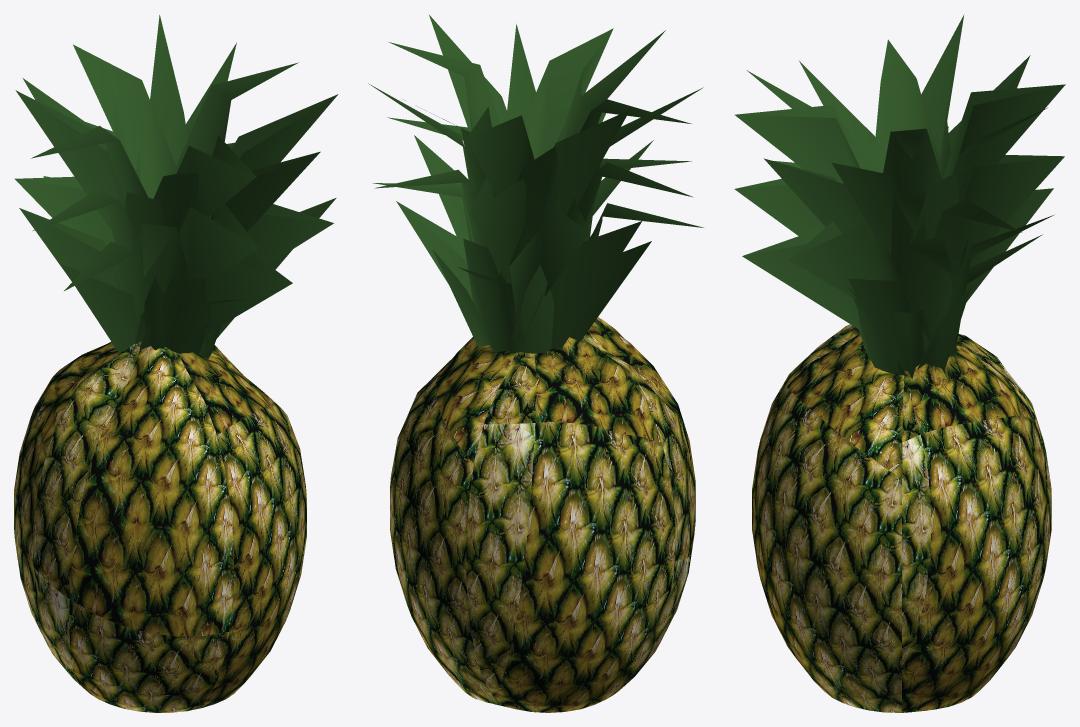
File: TESTMPI_pineapple_MPI01_fbx.fbx
The picture shows the model from 3 angles, left to right: view 1: azimuth 30°, elevation 25°; view 2: azimuth 150°, elevation 25°; view 3: azimuth 270°, elevation 25°; orthographic projection. The views are drawn at different scales.
Parts seen in each view (by area): view 1: Pineapple_body; view 2: Pineapple_body; view 3: Pineapple_body.
Boxes of the visible parts, box(x1,y1,x2,y2) form: Pineapple_body: box(14, 15, 338, 712); Pineapple_body: box(368, 15, 703, 712); Pineapple_body: box(734, 14, 1065, 712).
Bounding box in the file's own units: 9.9 × 19.56 × 9.68.
Materials: 2 (1 with a texture image).
